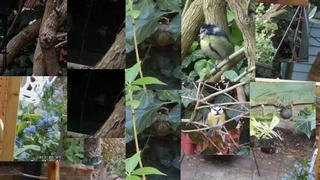blue tit: (198, 24, 233, 72), (205, 105, 226, 137)
sparrow: (276, 106, 292, 121)
